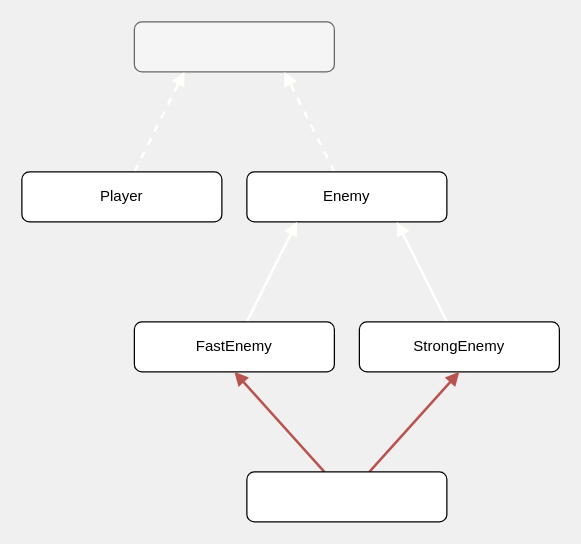
Image size: 581x544. Some labels were removed from this diagram. Here are the shapes that lost their labels. From the top down, the box of each, then its label:
(133, 21, 334, 72): IEntity
(246, 471, 447, 522): FastAndStrongEnemy
